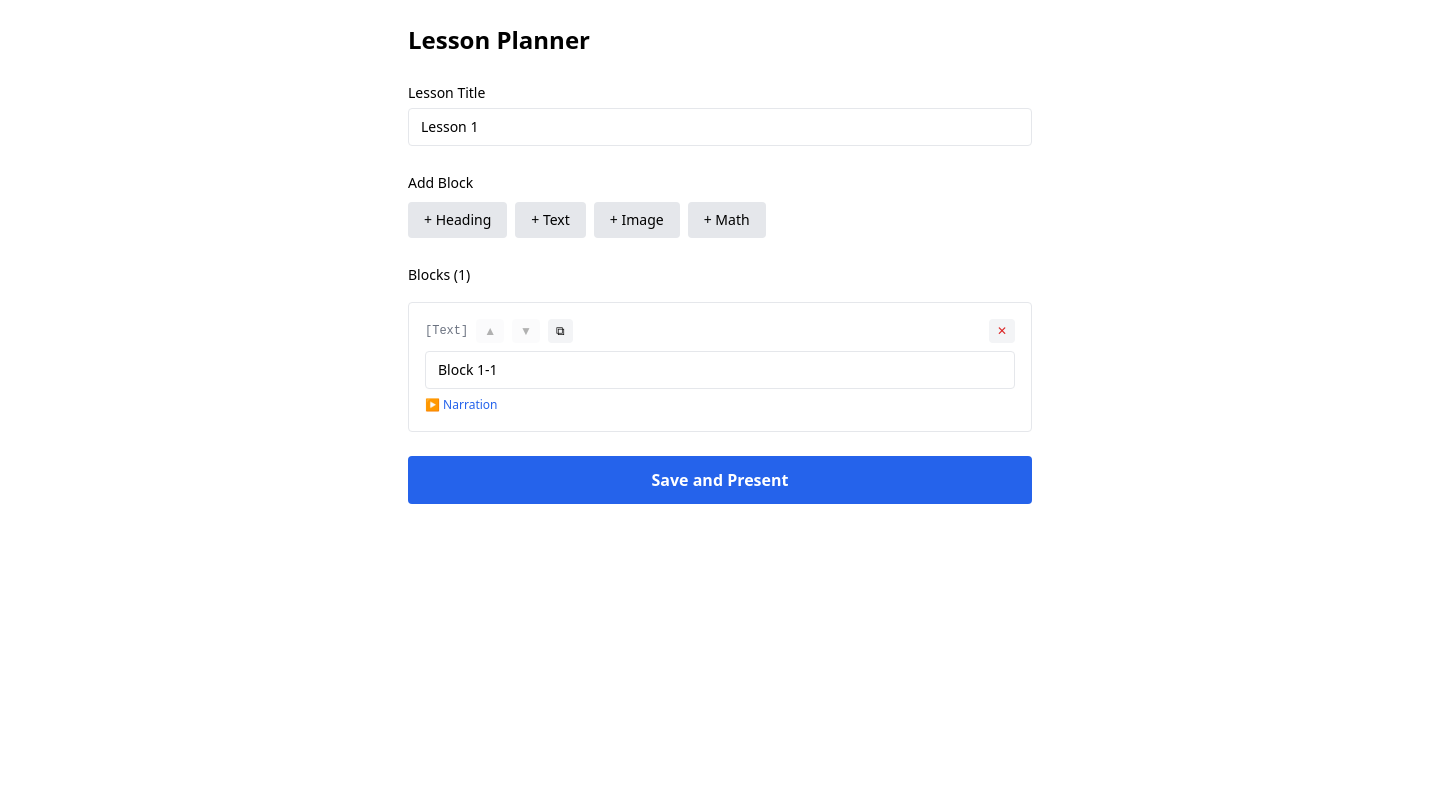
Test case: App › multi-lesson flow › exit presentation returns to planner with single lesson
The width and height of the screenshot is (1440, 810).
Click the button "Save and Present" at (720, 480), box [408,456,1032,504]
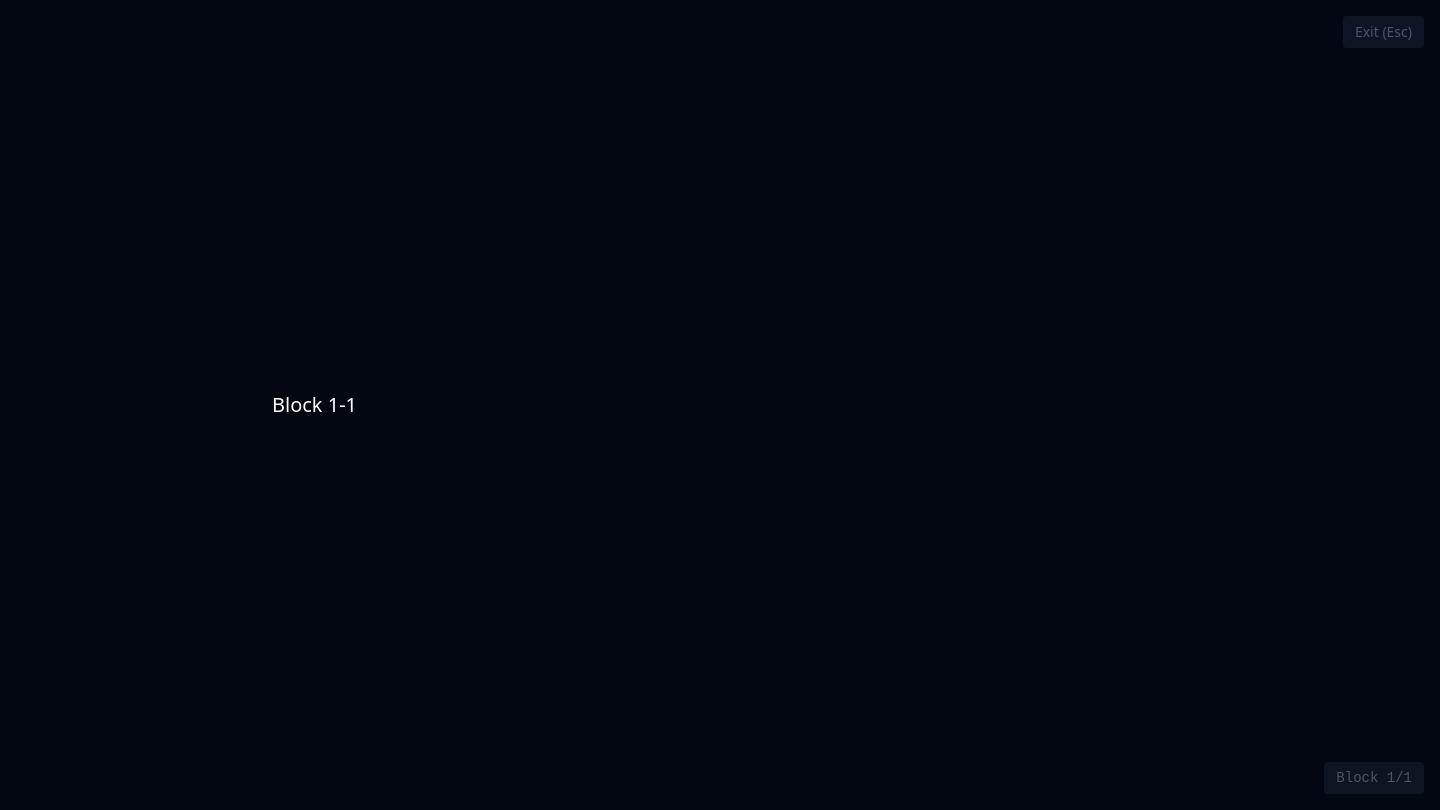
Press Escape
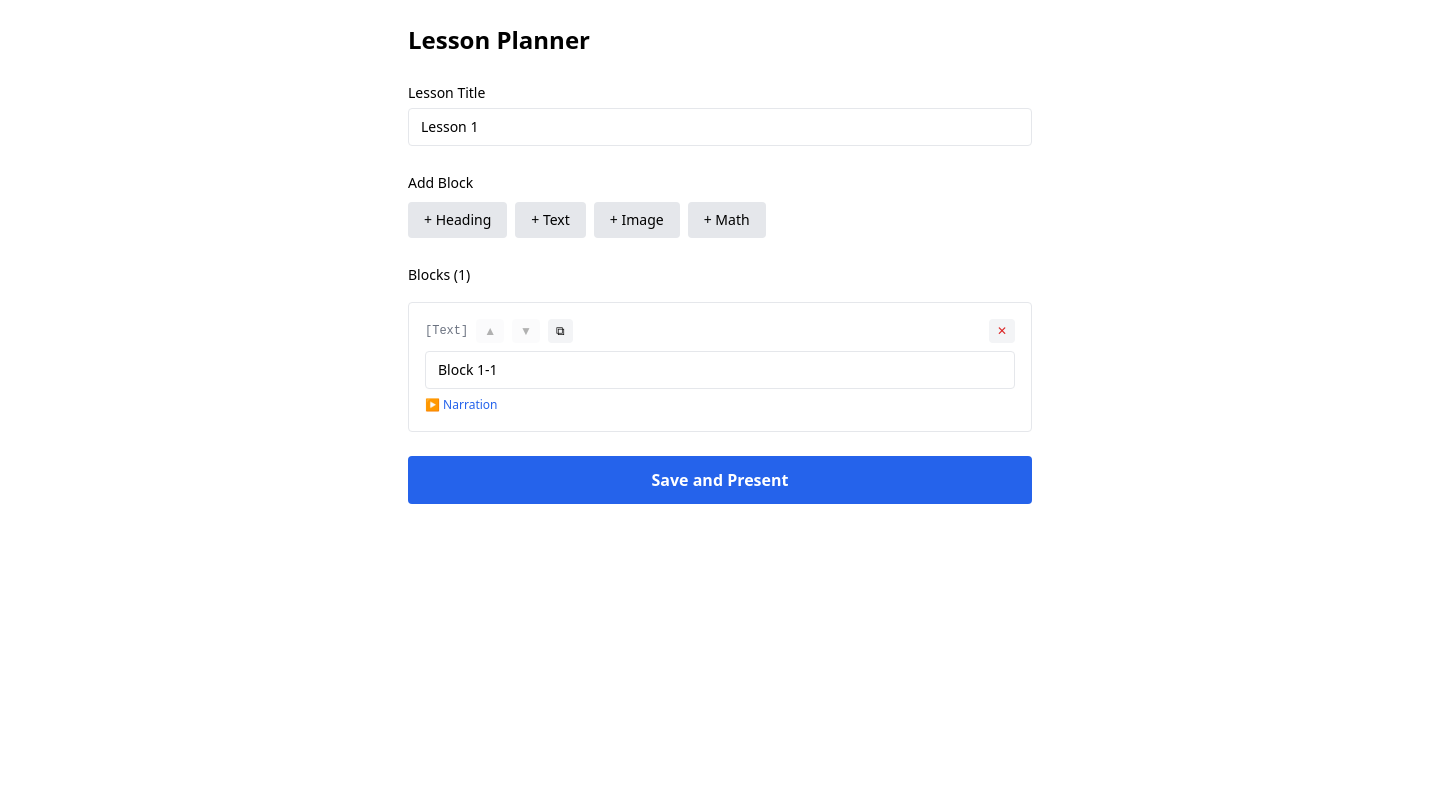
Now the heading "Lesson Planner" is shown, box [408,23,590,56]
